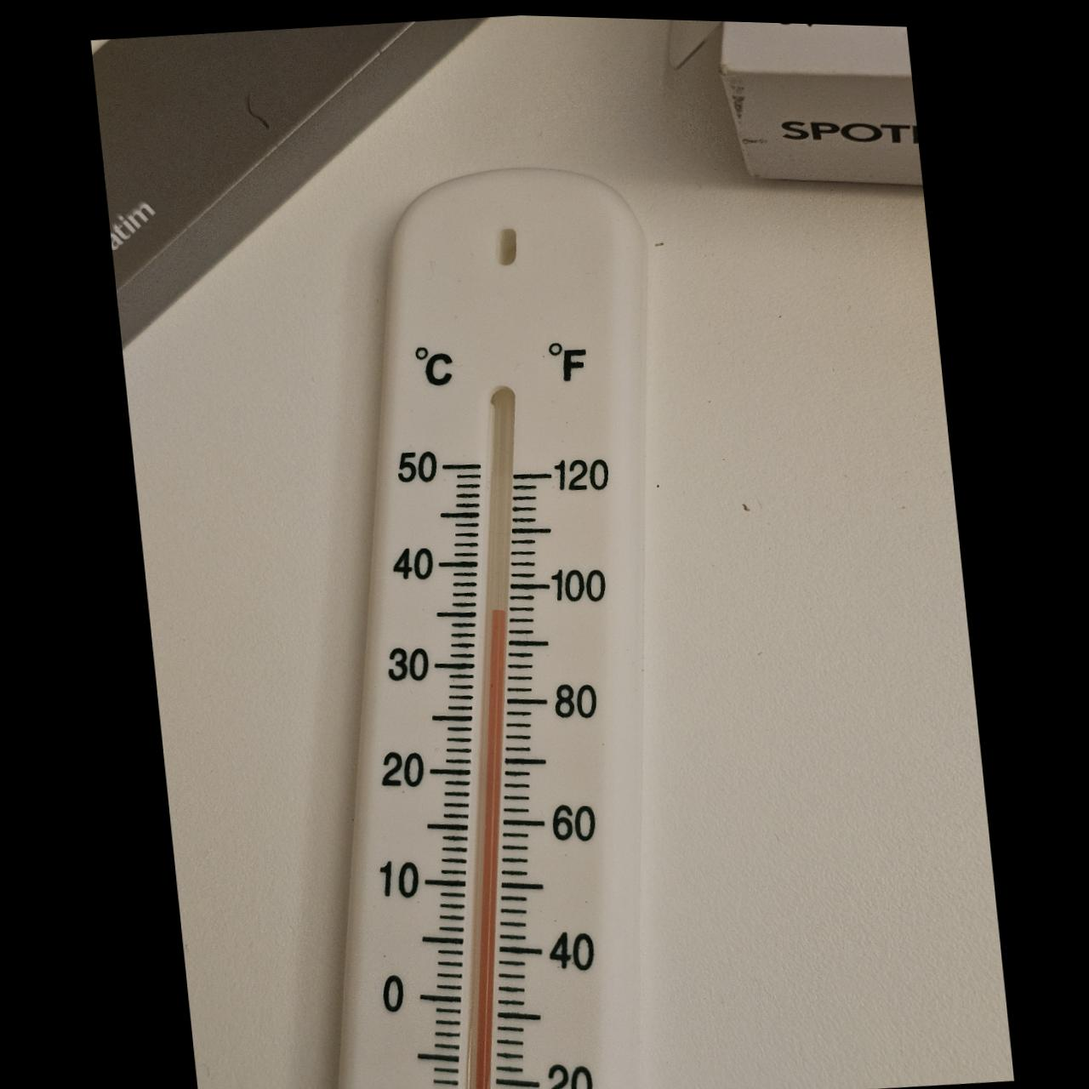thermometer: (241, 147, 735, 1089)
